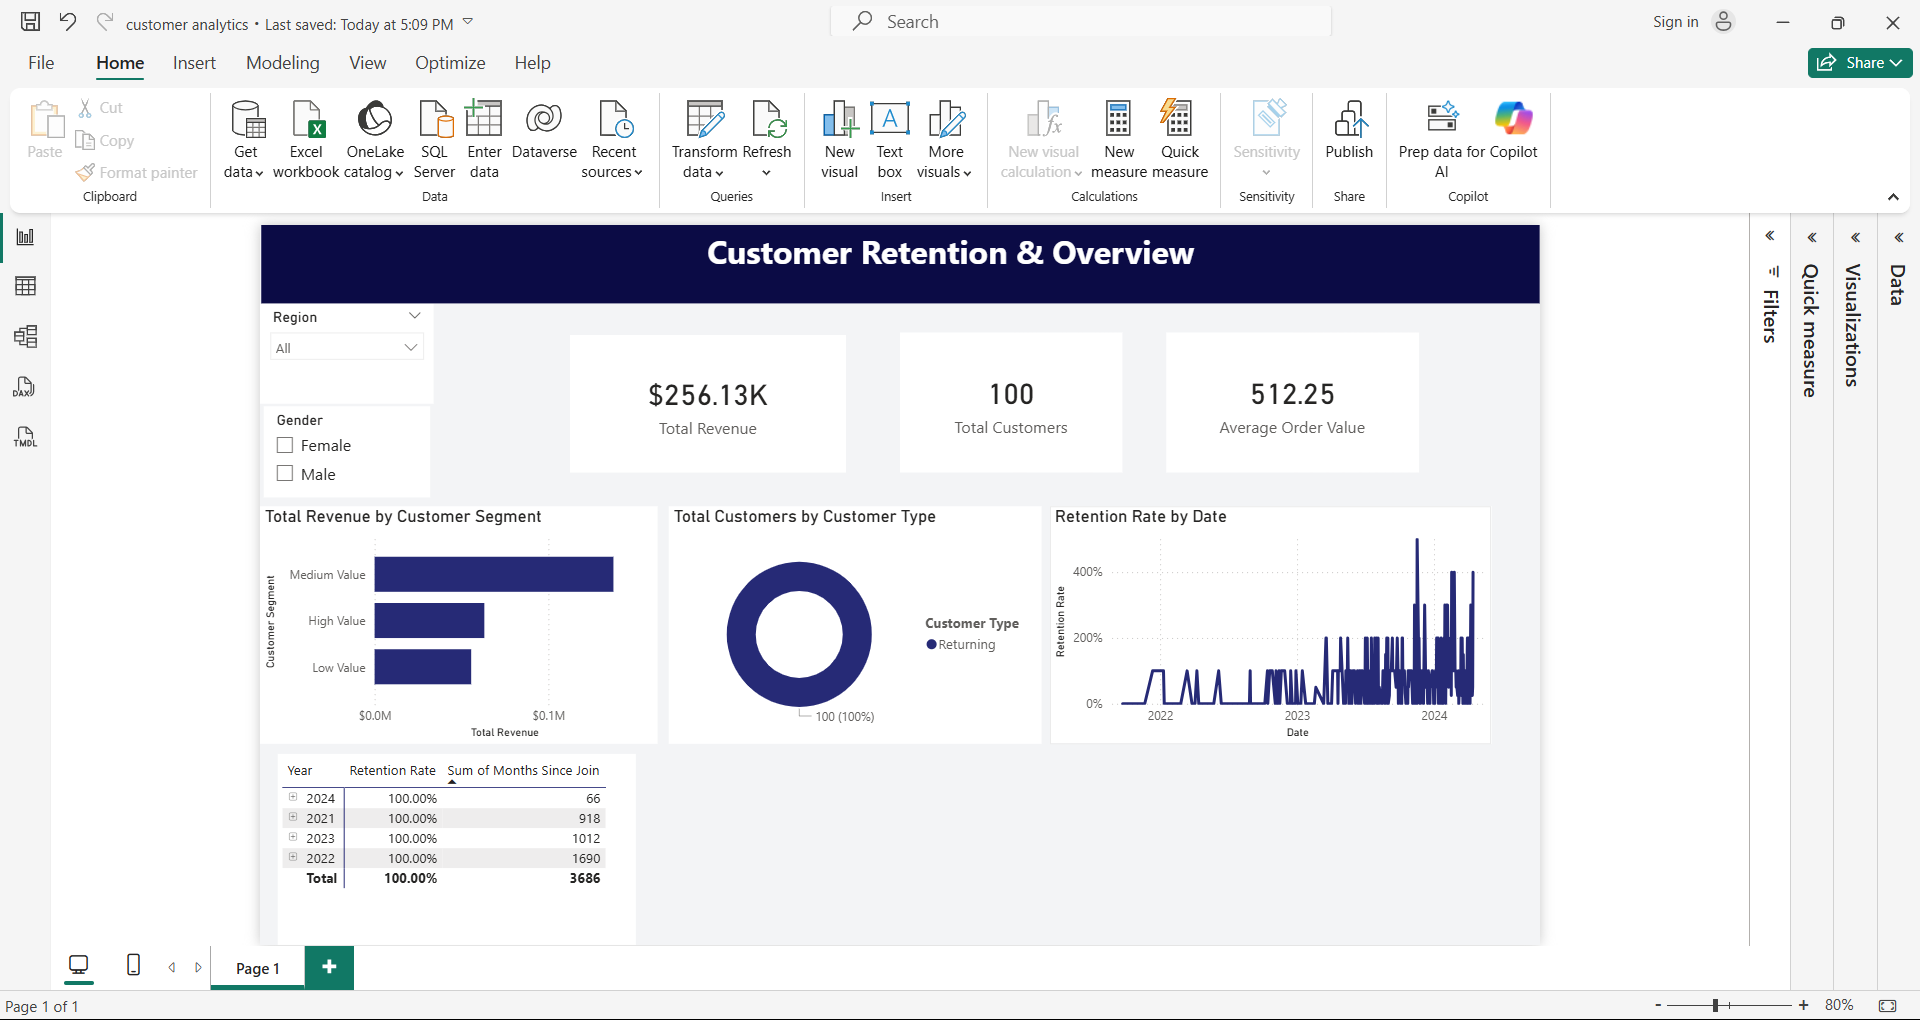

Layout of this report page (visuals, bound fields, positions):
{"tool":"powerbi","page":{"name":"Page 1","canvas":[1280,720],"ordinal":0},"visuals":[{"type":"pivotTable","fields":{"Rows":["Customers.Join Date.Variation.Date Hierarchy.Year","Customers.Join Date.Variation.Date Hierarchy.Month"],"Values":["Transactions.Retention Rate","Sum(Transactions.Months Since Join)"]},"box":[17.5,528.8,358.8,191.2],"z":0},{"type":"card","fields":{"Values":["Transactions.Total Revenue"]},"box":[333.6,110,276.4,137.9],"z":1000},{"type":"card","fields":{"Values":["Customers.Total Customers"]},"box":[640,107.5,222.5,140],"z":2000},{"type":"card","fields":{"Values":["Transactions.Average Order Value"]},"box":[906.2,107.5,252.5,140],"z":3000},{"type":"clusteredBarChart","fields":{"Category":["Customers.Customer Segment"],"Y":["Transactions.Total Revenue"]},"box":[0,281.2,397.5,237.5],"z":4000},{"type":"donutChart","fields":{"Category":["Customers.Customer Type"],"Y":["Customers.Total Customers"]},"box":[408.8,281.2,372.5,237.5],"z":5000},{"type":"lineChart","fields":{"Y":["Transactions.Retention Rate"],"Category":["DateTable.Date"]},"box":[790,281.2,441.2,237.5],"z":6000},{"type":"slicer","fields":{"Values":["Customers.Region"]},"box":[0,78.8,173.8,100],"z":7000},{"type":"slicer","fields":{"Values":["Customers.Gender"]},"box":[3.8,181.2,166.2,91.2],"z":8000},{"type":"shape","box":[1.2,0,1278.8,78.8],"z":9000},{"type":"textbox","box":[408.6,8.6,546,69.9],"z":10000}]}

Visuals, with their boxes on the page's 1280x720 design canvas (x1, y1, x2, y2). These are canvas units, not pixel positions in the 1920x1020 screenshot, which may show the page scaled, cropped or inside an application window:
pivotTable - Customers.Join Date.Variation.Date Hierarchy.Year x Customers.Join Date.Variation.Date Hierarchy.Month: left=18, top=529, right=376, bottom=720
card - Transactions.Total Revenue: left=334, top=110, right=610, bottom=248
card - Customers.Total Customers: left=640, top=108, right=862, bottom=248
card - Transactions.Average Order Value: left=906, top=108, right=1159, bottom=248
clusteredBarChart - Customers.Customer Segment x Transactions.Total Revenue: left=0, top=281, right=398, bottom=519
donutChart - Customers.Customer Type x Customers.Total Customers: left=409, top=281, right=781, bottom=519
lineChart - Transactions.Retention Rate x DateTable.Date: left=790, top=281, right=1231, bottom=519
slicer - Customers.Region: left=0, top=79, right=174, bottom=179
slicer - Customers.Gender: left=4, top=181, right=170, bottom=272
shape: left=1, top=0, right=1280, bottom=79
textbox: left=409, top=9, right=955, bottom=78
